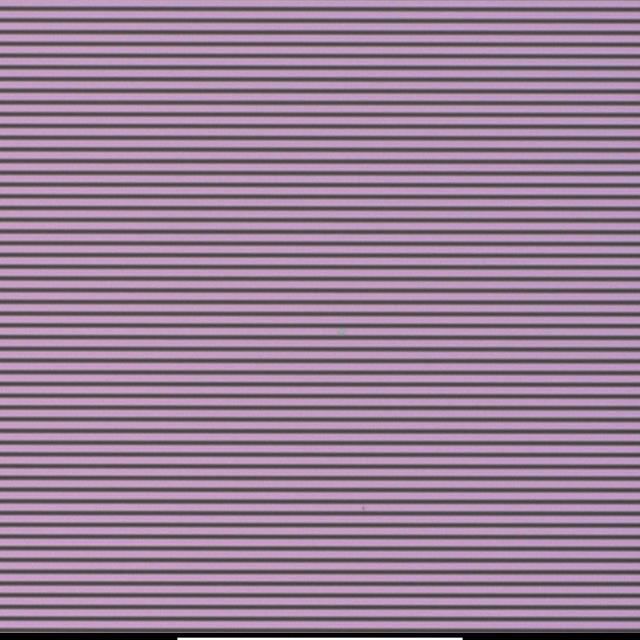nonvisual: (328, 322, 352, 342)
